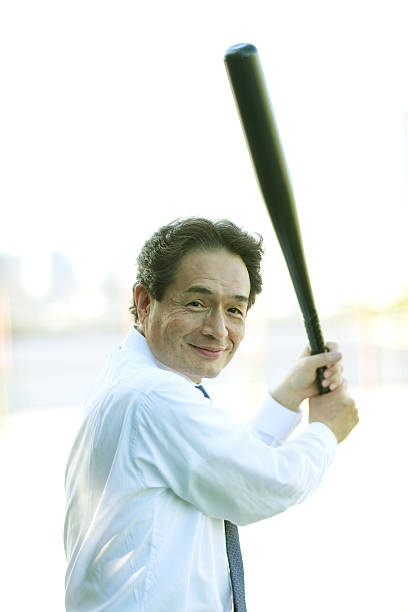bita: (228, 39, 338, 400)
